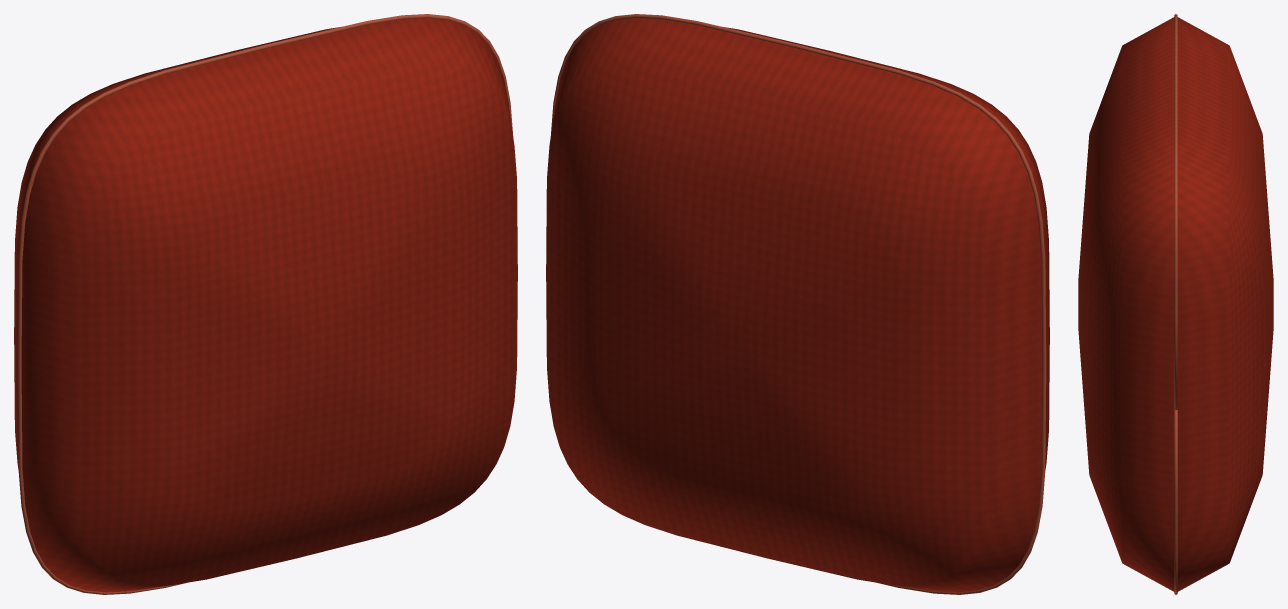
Rendered from lod1_source.glb.
3 views of the same model, side by side, from view 1: azimuth 30°, elevation 25°; view 2: azimuth 150°, elevation 25°; view 3: azimuth 270°, elevation 25° (orthographic). The views are drawn at different scales.
Parts seen in each view (by area): view 1: Optional loose softly stuffed square cushion, Loose cushion sewn perimeter; view 2: Optional loose softly stuffed square cushion, Loose cushion sewn perimeter; view 3: Optional loose softly stuffed square cushion, Loose cushion sewn perimeter.
Part boxes in pixels (x1,y1,x2,y2): Optional loose softly stuffed square cushion: (14,18,517,592); Loose cushion sewn perimeter: (17,14,512,594); Optional loose softly stuffed square cushion: (546,18,1049,592); Loose cushion sewn perimeter: (551,14,1046,594); Optional loose softly stuffed square cushion: (1078,17,1273,591); Loose cushion sewn perimeter: (1174,14,1177,594).
Size of the model in its own units: 0.3636 by 0.3636 by 0.142.
Materials: 2 (1 with a texture image).
